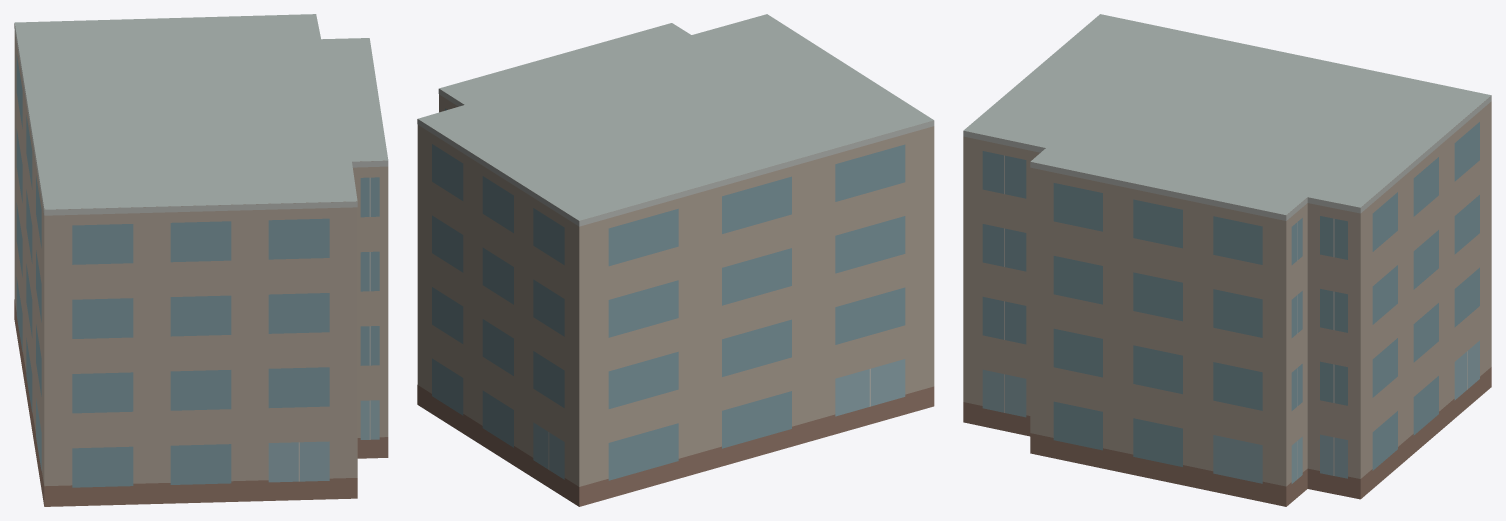
Rendered from survey-upis-32524640.glb.
3 views of the same model, side by side, from view 1: azimuth 30°, elevation 25°; view 2: azimuth 150°, elevation 25°; view 3: azimuth 270°, elevation 25° (orthographic). The views are drawn at different scales.
Visible parts, largest first — view 1: survey-upis-32524640.tmp; view 2: survey-upis-32524640.tmp; view 3: survey-upis-32524640.tmp.
Boxes of the visible parts, x1,y1,x2,y2 form: survey-upis-32524640.tmp: (14,14,388,506); survey-upis-32524640.tmp: (417,14,934,506); survey-upis-32524640.tmp: (963,14,1491,506).
Bounding box in the file's own units: 18.06 × 12.2 × 20.04.
